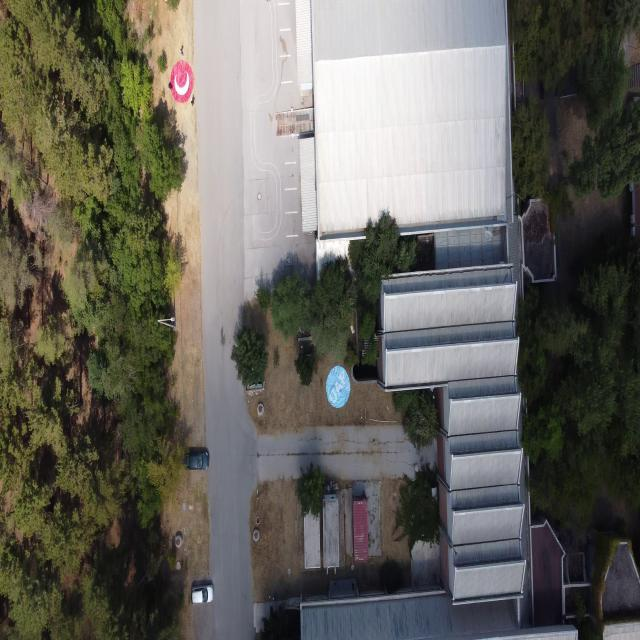vehicle: (326, 366, 351, 408), (170, 61, 193, 102), (184, 450, 209, 470), (190, 584, 213, 605), (190, 98, 194, 106), (168, 82, 172, 90), (180, 48, 183, 56), (324, 484, 327, 492), (327, 484, 329, 492)
